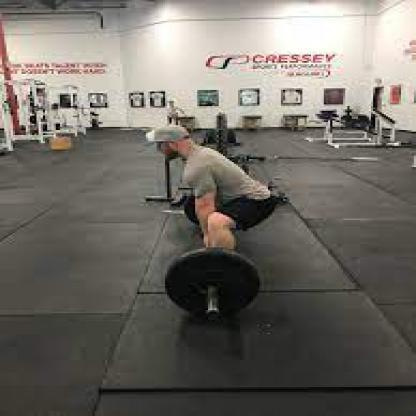barbell: (162, 184, 262, 322)
